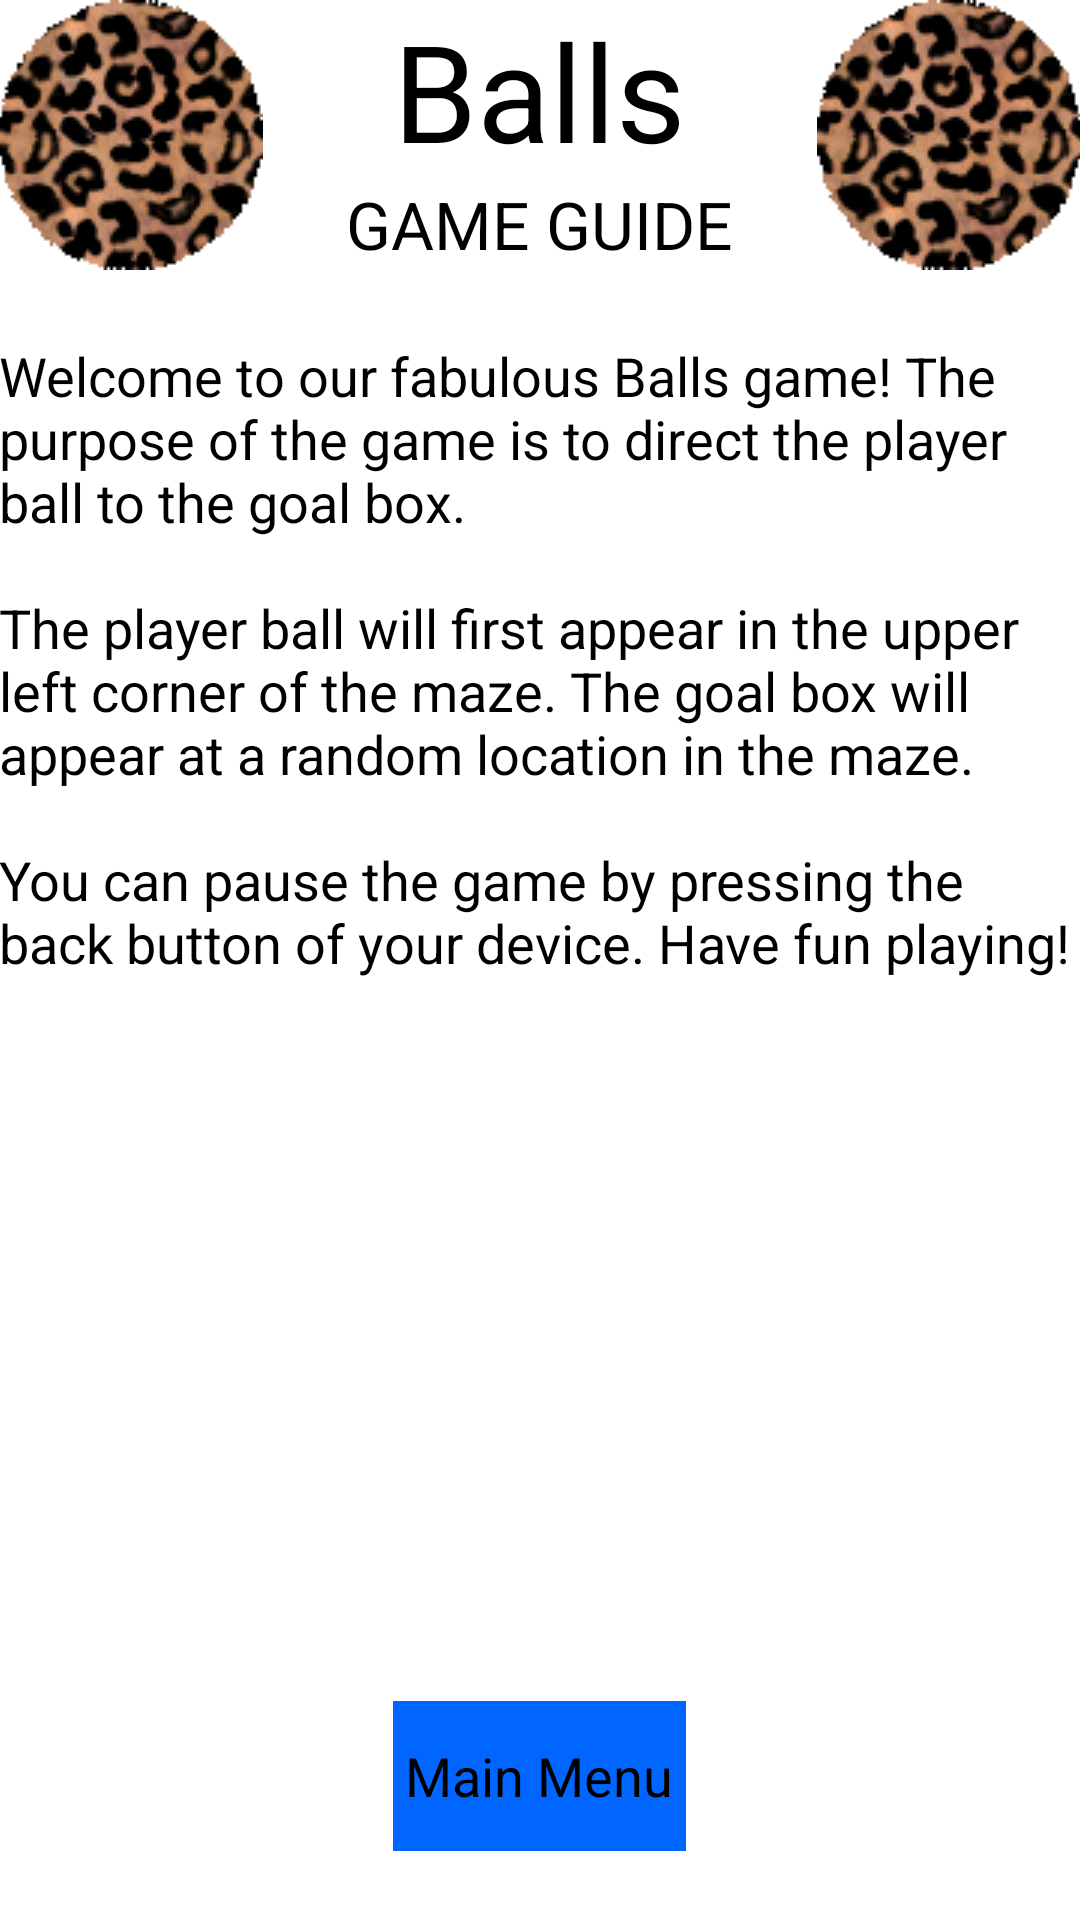

Icon click points for this 1080px x 1920px phone screenshot, format (x=x, y=y):
Leopard: (x=131, y=135), (x=948, y=135)
